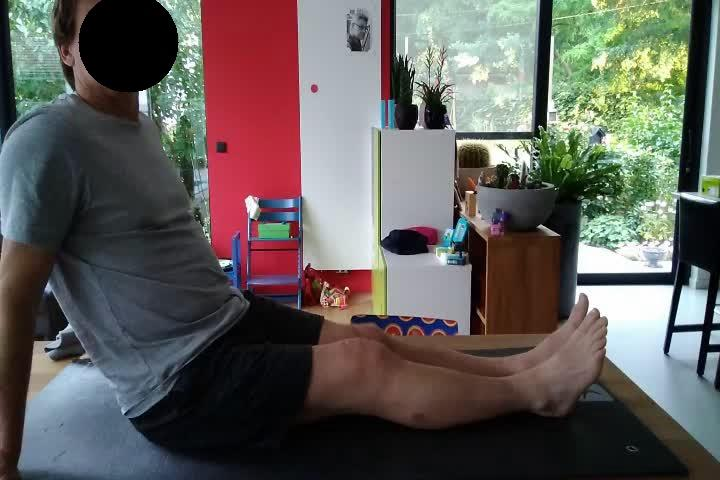lower_body: (132, 291, 612, 452)
